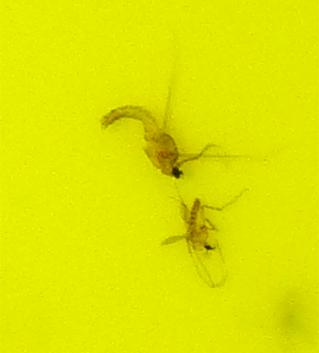Ephemeroptera: (100, 100, 206, 182)
Nematocera: (164, 198, 219, 253)
